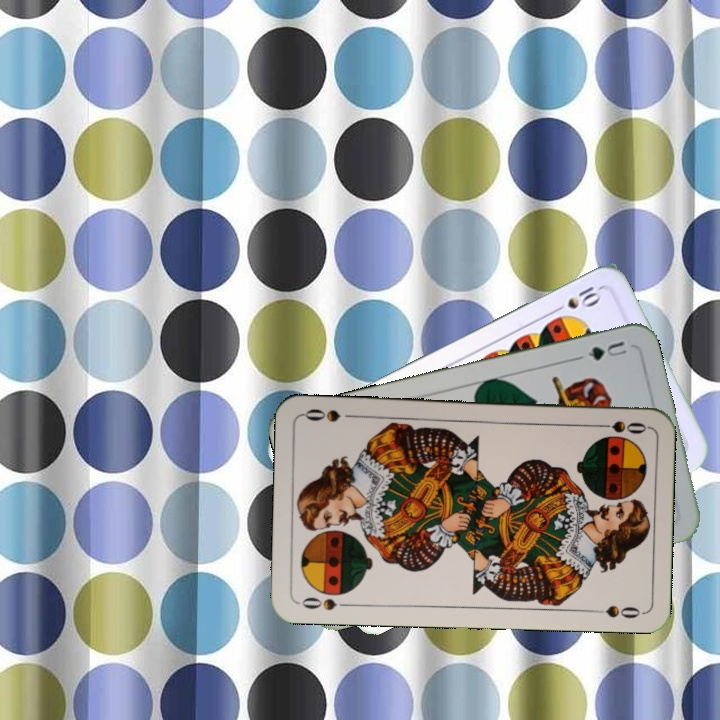GU: (574, 337, 630, 364)
S10: (548, 282, 604, 316)
SO: (295, 593, 354, 613), (590, 417, 649, 436)
